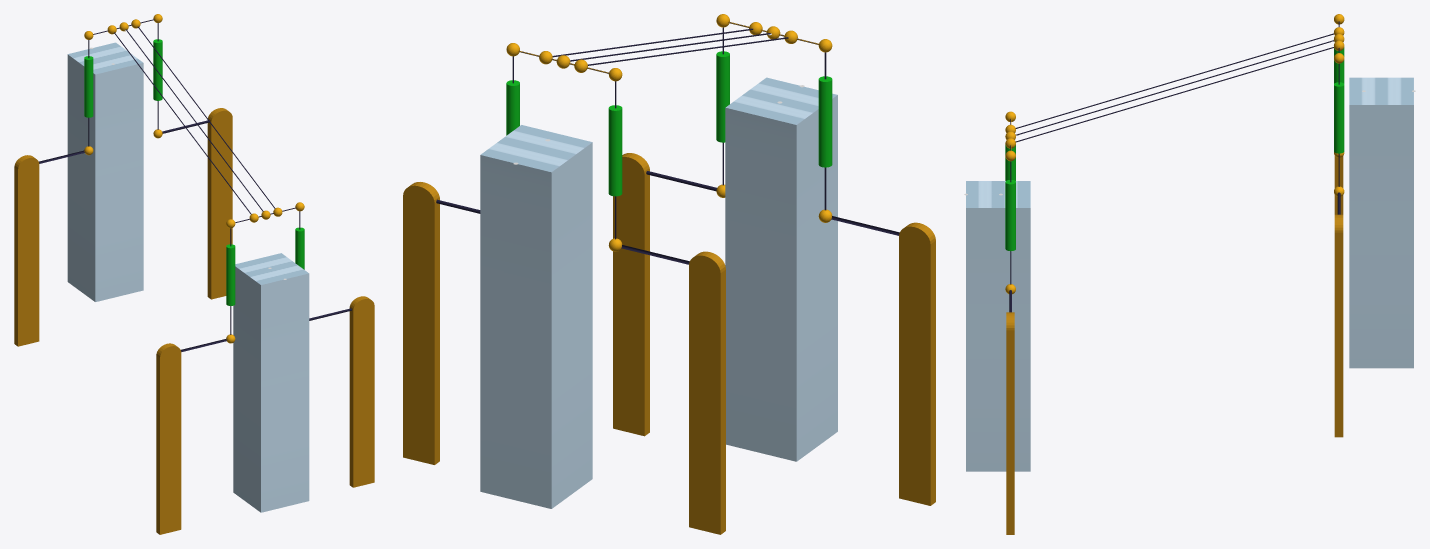
Rendered from 1_hit_rope.fbx.
3 views of the same model, side by side, from view 1: azimuth 30°, elevation 25°; view 2: azimuth 150°, elevation 25°; view 3: azimuth 270°, elevation 25° (orthographic). The views are drawn at different scales.
Parts seen in each view (by area): view 1: road.001, hit_rope; view 2: road.001, hit_rope; view 3: road.001, hit_rope.
Boxes of the visible parts, box(x1,y1,x2,y2) form: road.001: box(67, 42, 309, 512); hit_rope: box(14, 14, 374, 534); road.001: box(480, 77, 837, 508); hit_rope: box(403, 14, 935, 534); road.001: box(966, 77, 1413, 471); hit_rope: box(1005, 14, 1344, 534).
Size of the model in its own units: 5406 by 9160 by 8514.
